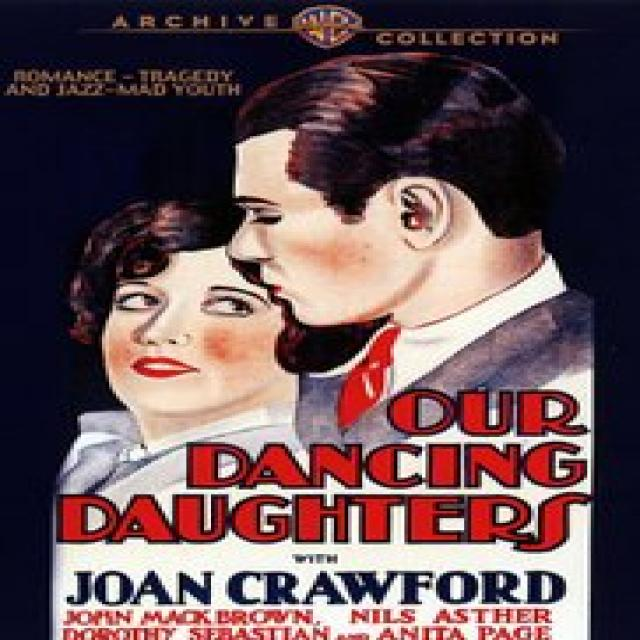movie-judul: (54, 369, 593, 558)
picture: (6, 56, 640, 639)
